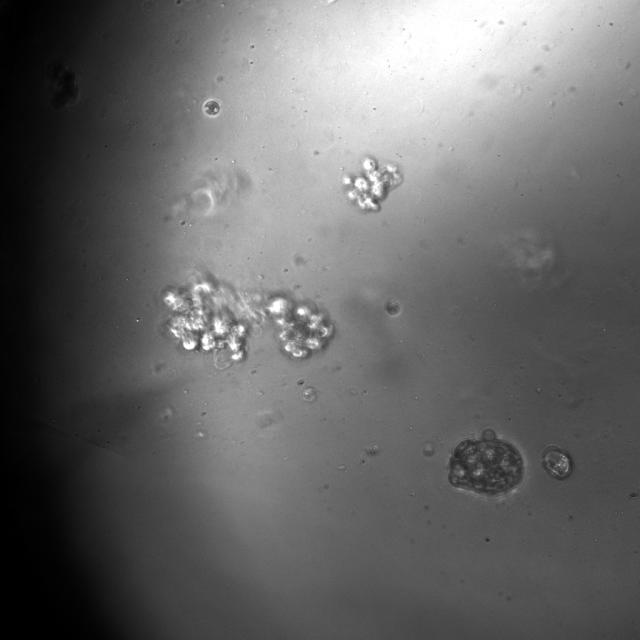organoid: (161, 264, 334, 361), (448, 428, 524, 495), (342, 157, 402, 210), (541, 445, 572, 480), (202, 99, 221, 117), (385, 299, 401, 316)
